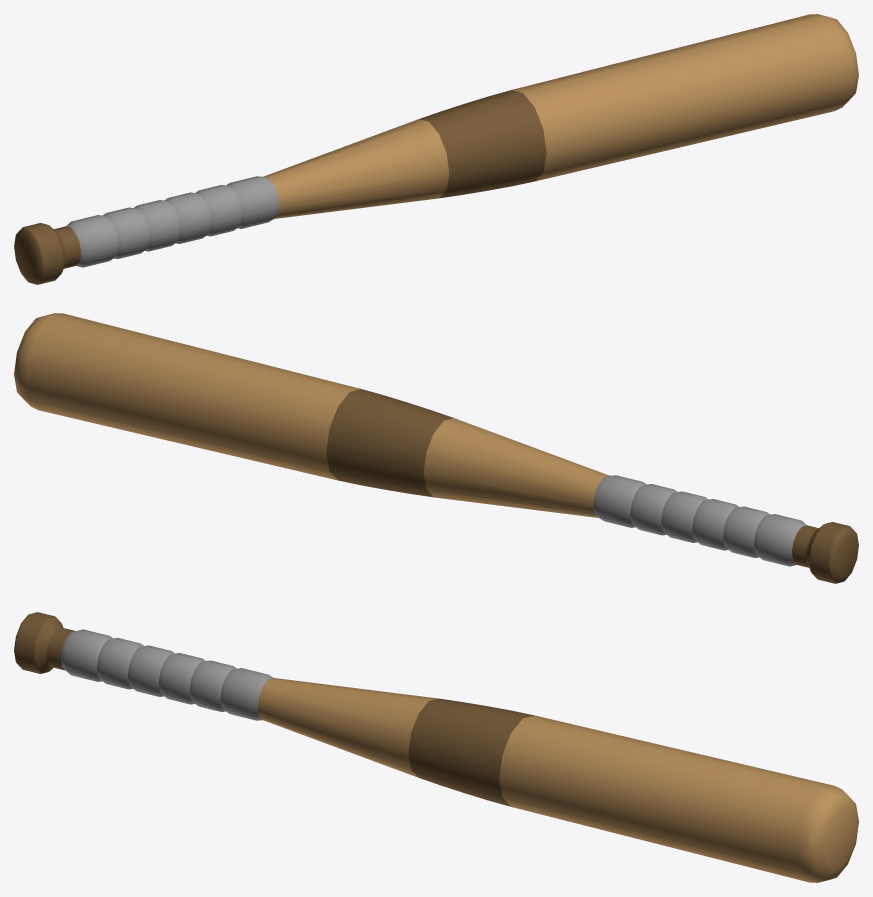
File: Entity_BaseballBat.FBX
3 views of the same model, one above another, from view 1: azimuth 30°, elevation 25°; view 2: azimuth 150°, elevation 25°; view 3: azimuth 330°, elevation 25° (orthographic).
Parts seen in each view (by area): view 1: BaseballBat; view 2: BaseballBat; view 3: BaseballBat.
Boxes of the visible parts, left/top/right/bottom form: BaseballBat: left=14, top=14, right=858, bottom=284; BaseballBat: left=14, top=313, right=858, bottom=583; BaseballBat: left=14, top=612, right=858, bottom=882.
Bounding box in the file's own units: 279 × 29.52 × 29.52.
